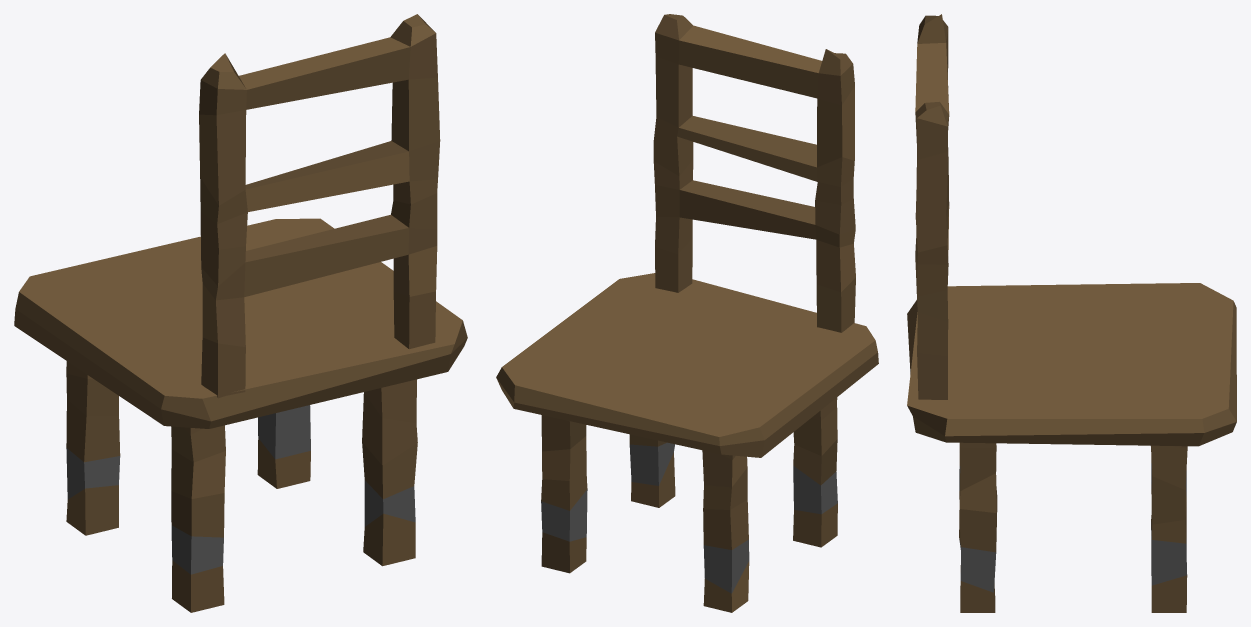
File: Chair.fbx
The picture shows the model from 3 angles, left to right: view 1: azimuth 30°, elevation 25°; view 2: azimuth 150°, elevation 25°; view 3: azimuth 270°, elevation 25°; orthographic projection. The views are drawn at different scales.
Parts seen in each view (by area): view 1: Chair; view 2: Chair; view 3: Chair.
Boxes of the visible parts, bbox=[...] form: Chair: bbox=[14, 14, 467, 612]; Chair: bbox=[496, 14, 878, 612]; Chair: bbox=[907, 14, 1236, 612].
Bounding box in the file's own units: 87.61 × 150 × 87.88.
